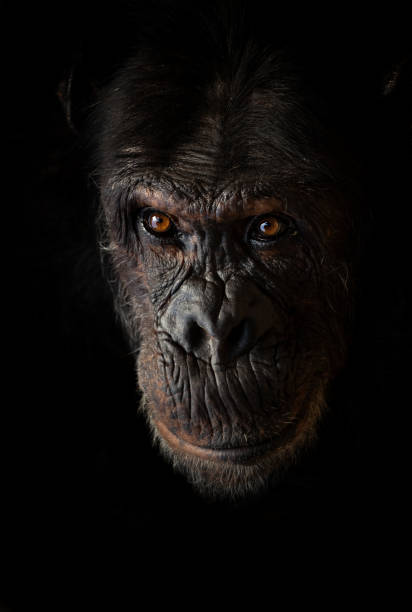chimpanzee: (26, 37, 391, 535)
